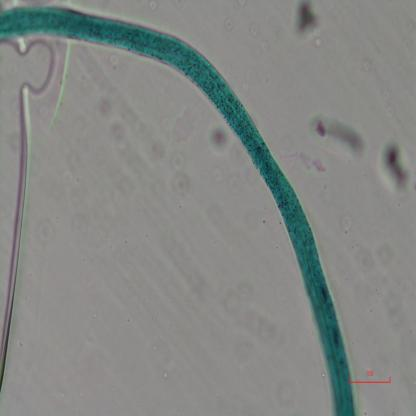Air bubble: (0, 38, 59, 384)
Background material: (222, 280, 286, 350), (308, 110, 366, 162), (124, 112, 167, 164), (379, 136, 414, 199), (379, 273, 412, 325), (292, 0, 324, 52), (352, 236, 395, 274), (95, 100, 124, 141), (168, 153, 194, 198), (206, 123, 230, 157), (174, 114, 201, 144), (295, 150, 323, 175), (332, 205, 352, 234), (34, 213, 53, 240), (221, 12, 240, 36), (102, 47, 121, 71), (360, 57, 375, 74), (249, 27, 264, 40), (160, 363, 170, 380)
Microfibre: (0, 5, 358, 415)
